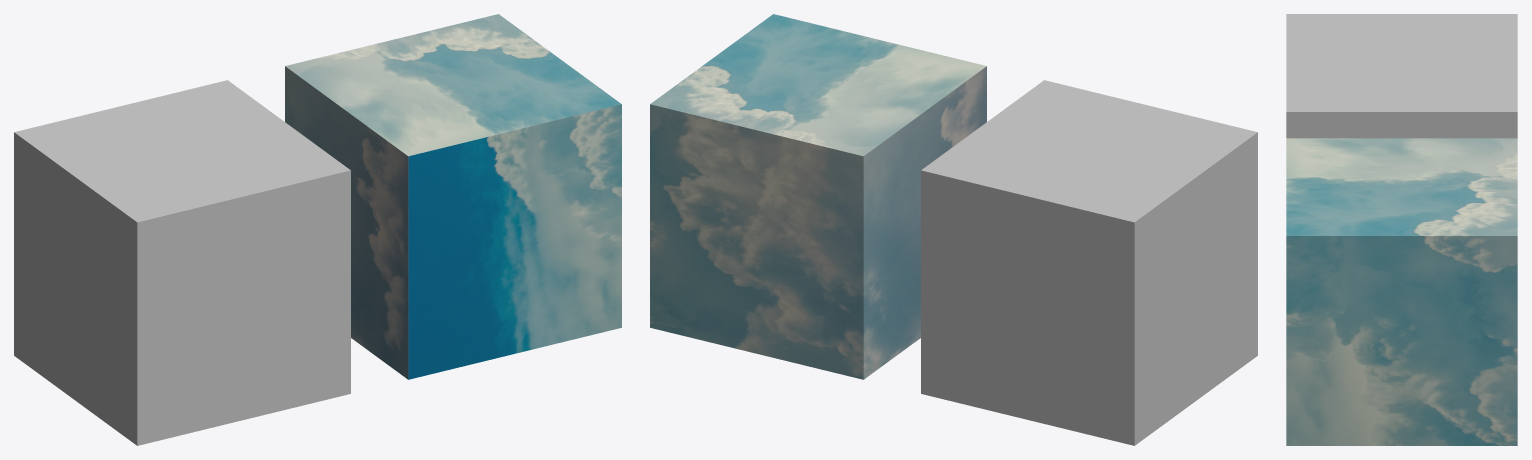
File: BackGround1.obj
The picture shows the model from 3 angles, left to right: view 1: azimuth 30°, elevation 25°; view 2: azimuth 150°, elevation 25°; view 3: azimuth 270°, elevation 25°; orthographic projection. The views are drawn at different scales.
Parts seen in each view (by area): view 1: Cube, Cube.001; view 2: Cube, Cube.001; view 3: Cube.001, Cube.
Boxes of the visible parts, x1,y1,x2,y2 form: Cube: [14, 80, 350, 445]; Cube.001: [285, 14, 621, 379]; Cube: [921, 80, 1257, 445]; Cube.001: [650, 14, 986, 379]; Cube.001: [1286, 138, 1517, 445]; Cube: [1286, 14, 1517, 138].
Size of the model in its own units: 4.54 by 2 by 2.
Materials: 2 (1 with a texture image).
